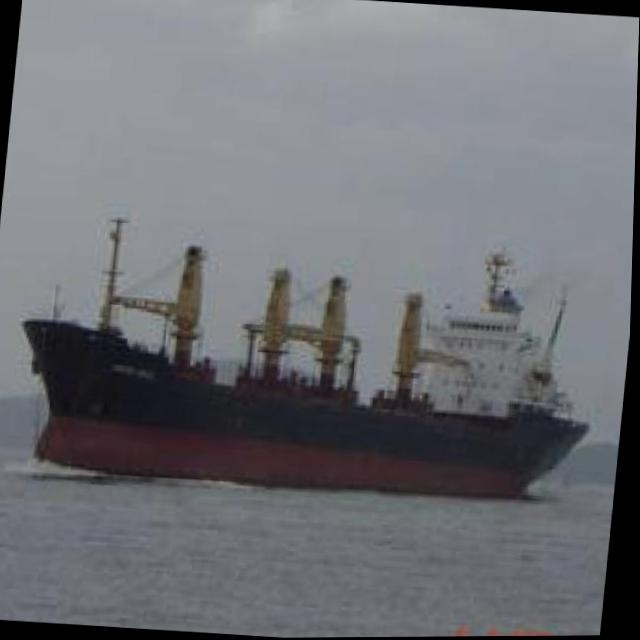ship2: (23, 220, 594, 503)
